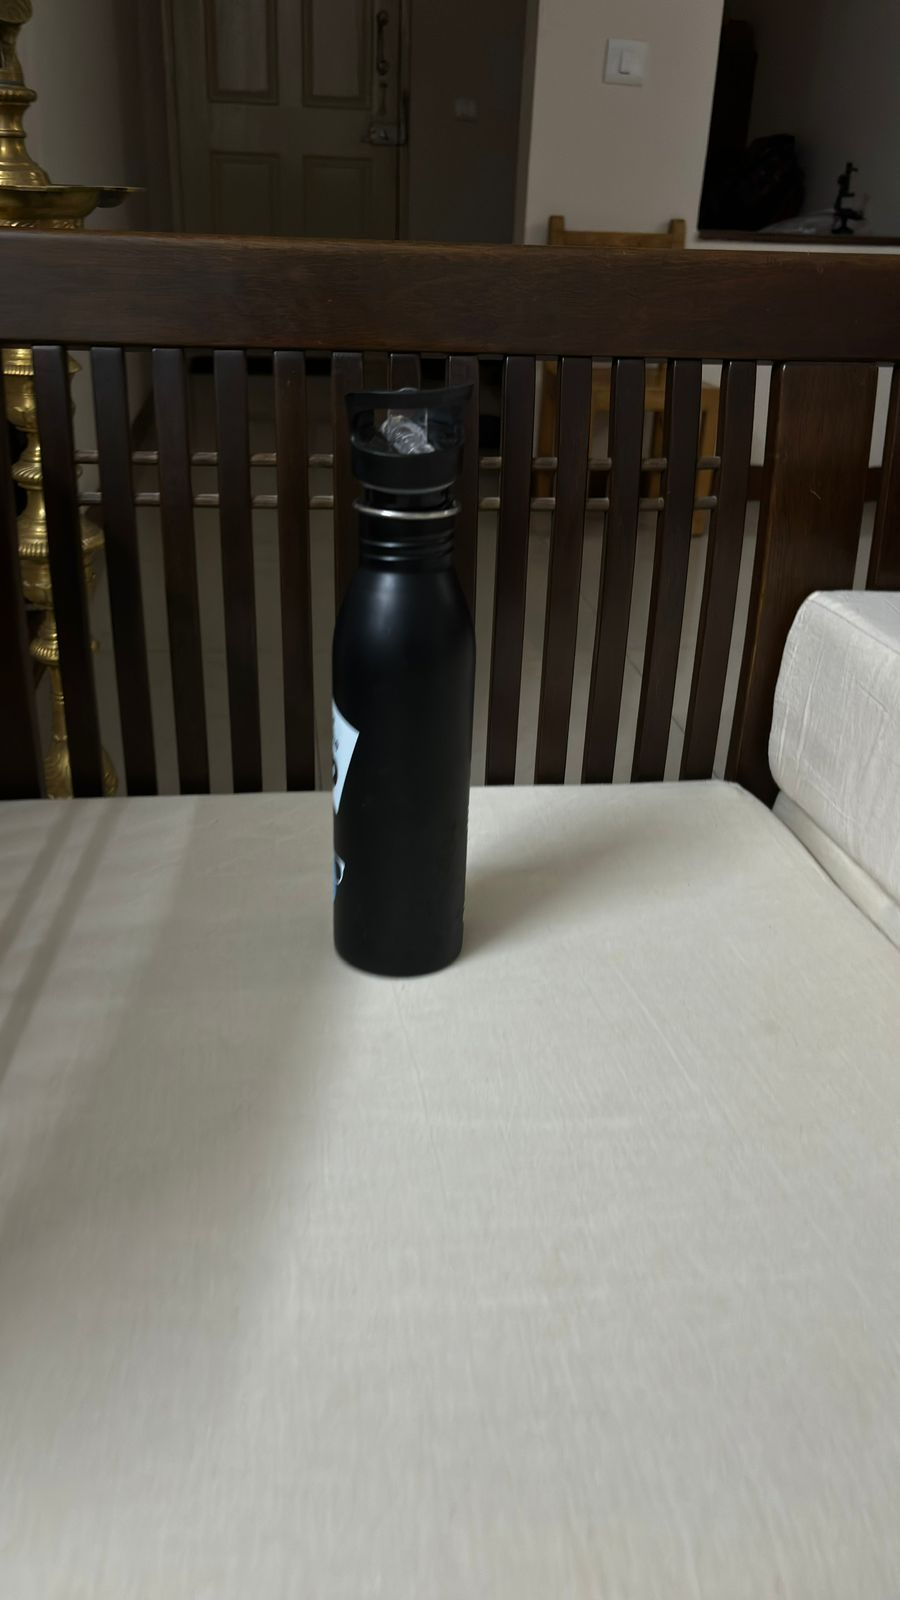bottle: (324, 379, 482, 989)
